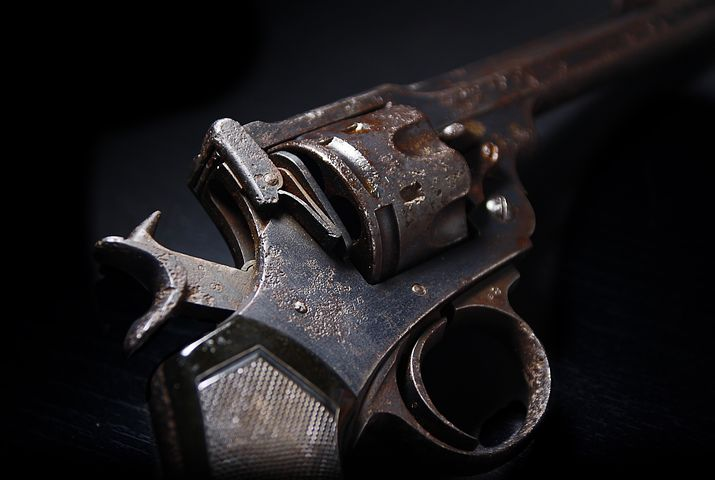gun: (104, 45, 600, 479)
